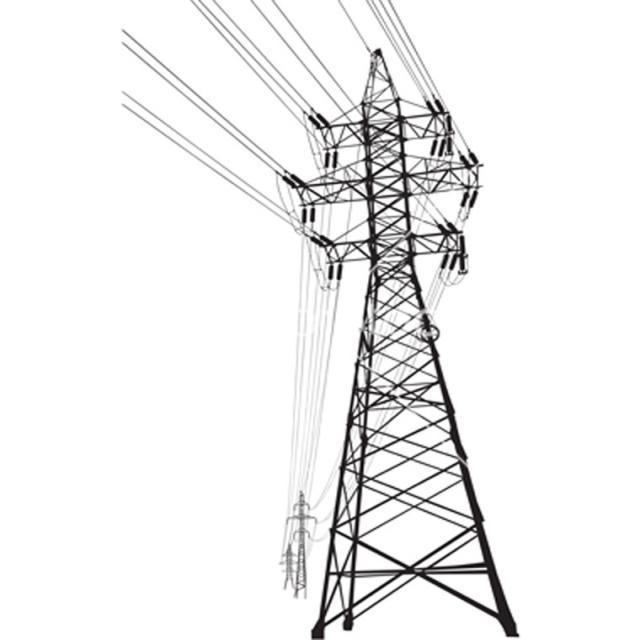non-critical vegetation: (297, 64, 535, 624)
